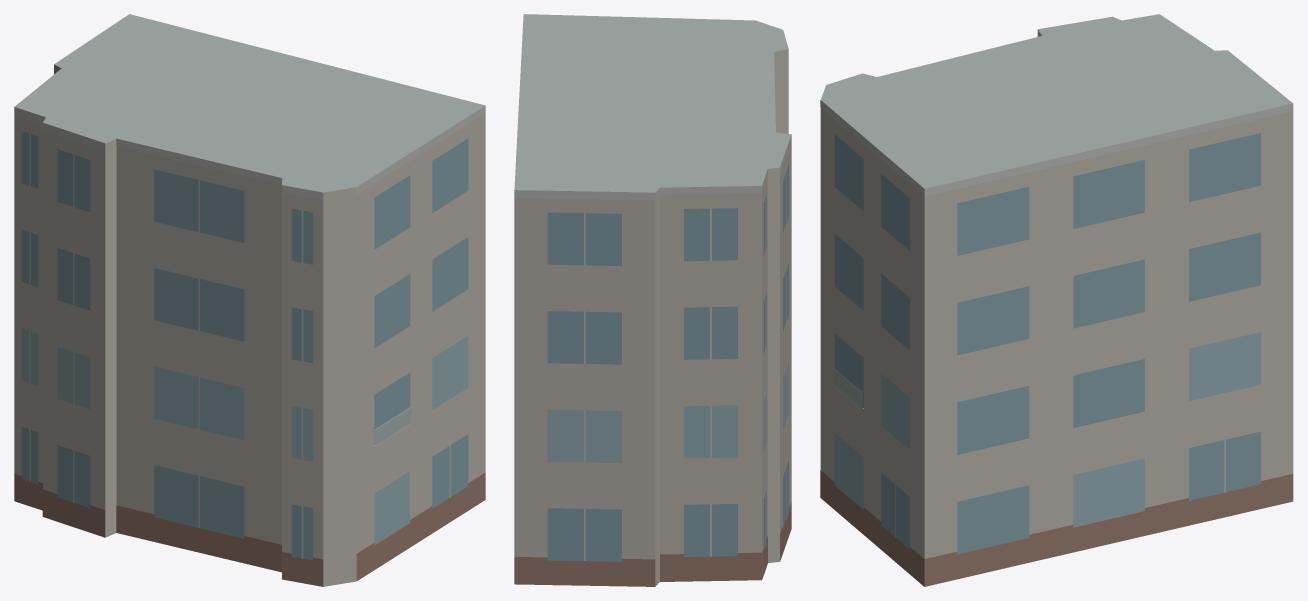
File: survey-upis-32627257.glb
The picture shows the model from 3 angles, left to right: view 1: azimuth 30°, elevation 25°; view 2: azimuth 150°, elevation 25°; view 3: azimuth 270°, elevation 25°; orthographic projection.
Parts seen in each view (by area): view 1: survey-upis-32627257.tmp; view 2: survey-upis-32627257.tmp; view 3: survey-upis-32627257.tmp.
Part boxes in pixels (x1,y1,x2,y2): survey-upis-32627257.tmp: [14, 14, 485, 586]; survey-upis-32627257.tmp: [514, 14, 791, 586]; survey-upis-32627257.tmp: [820, 14, 1293, 586].
Size of the model in its own units: 11.97 by 12.7 by 13.68.
